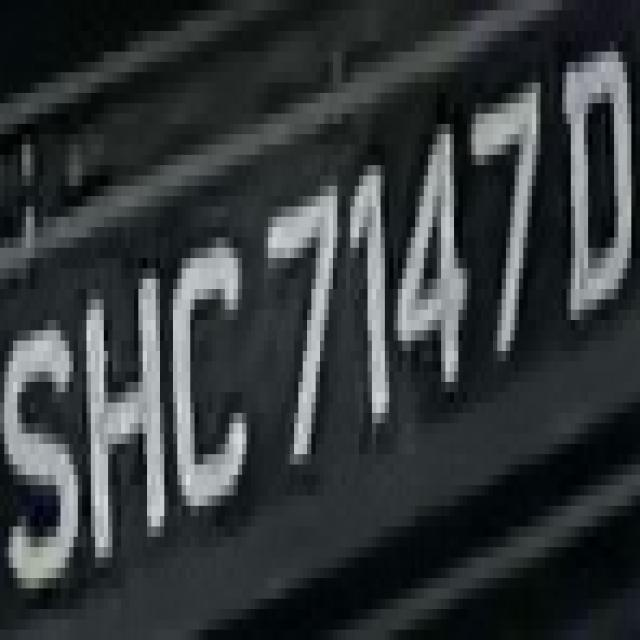1: (350, 113, 398, 496)
4: (389, 103, 476, 403)
7: (450, 83, 545, 382), (260, 165, 342, 506)
C: (168, 217, 260, 547)
D: (562, 21, 640, 330)
H: (69, 258, 169, 588)
S: (4, 268, 78, 599)
